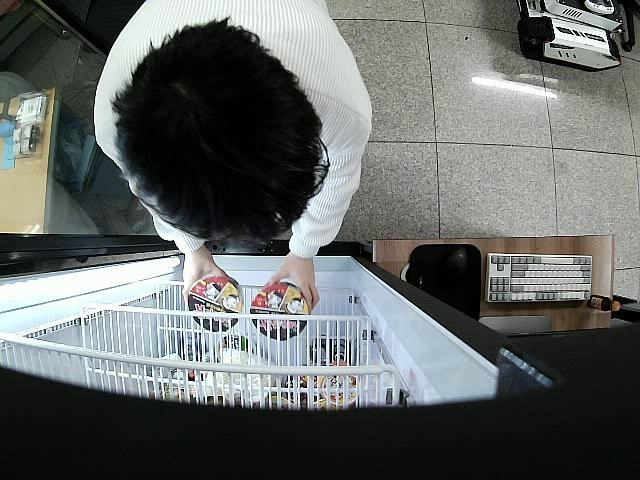07_buldak_L: (252, 280, 310, 338), (187, 276, 244, 333)
